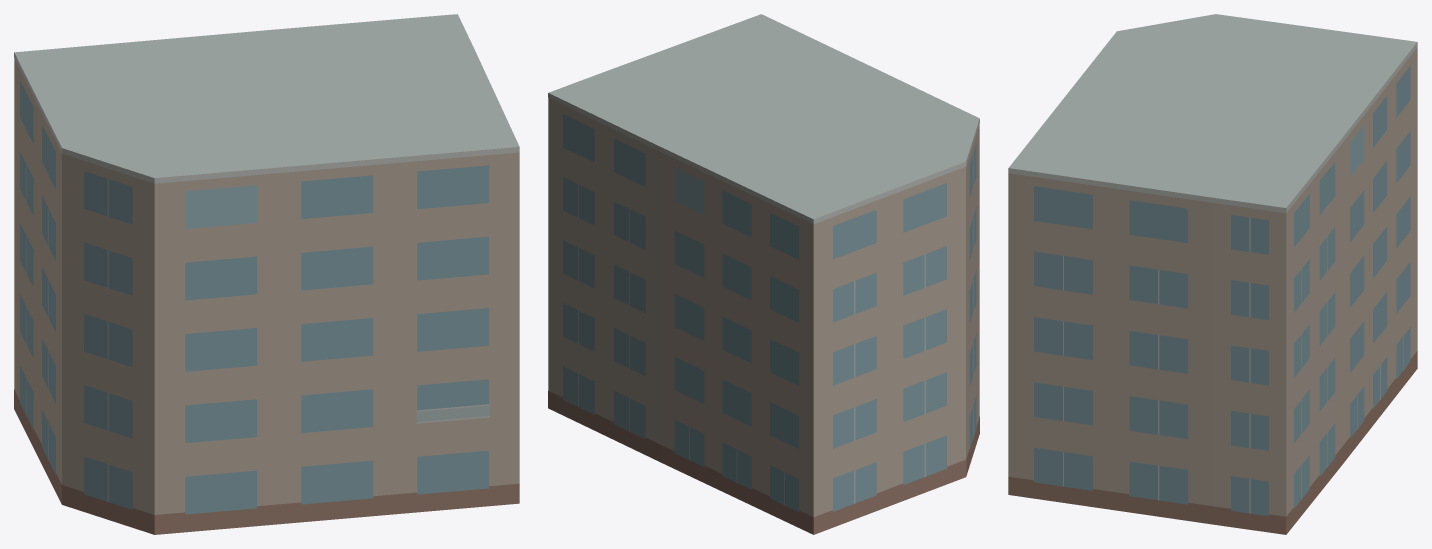
The model's file is survey-upis-32912290.glb.
3 views of the same model, side by side, from view 1: azimuth 30°, elevation 25°; view 2: azimuth 150°, elevation 25°; view 3: azimuth 270°, elevation 25° (orthographic). The views are drawn at different scales.
Parts seen in each view (by area): view 1: survey-upis-32912290.tmp; view 2: survey-upis-32912290.tmp; view 3: survey-upis-32912290.tmp.
Part boxes in pixels (<box>): survey-upis-32912290.tmp: <box>14,14,519,534</box>; survey-upis-32912290.tmp: <box>548,14,979,534</box>; survey-upis-32912290.tmp: <box>1008,14,1417,534</box>.
Bounding box in the file's own units: 19.88 × 15.6 × 17.71.
